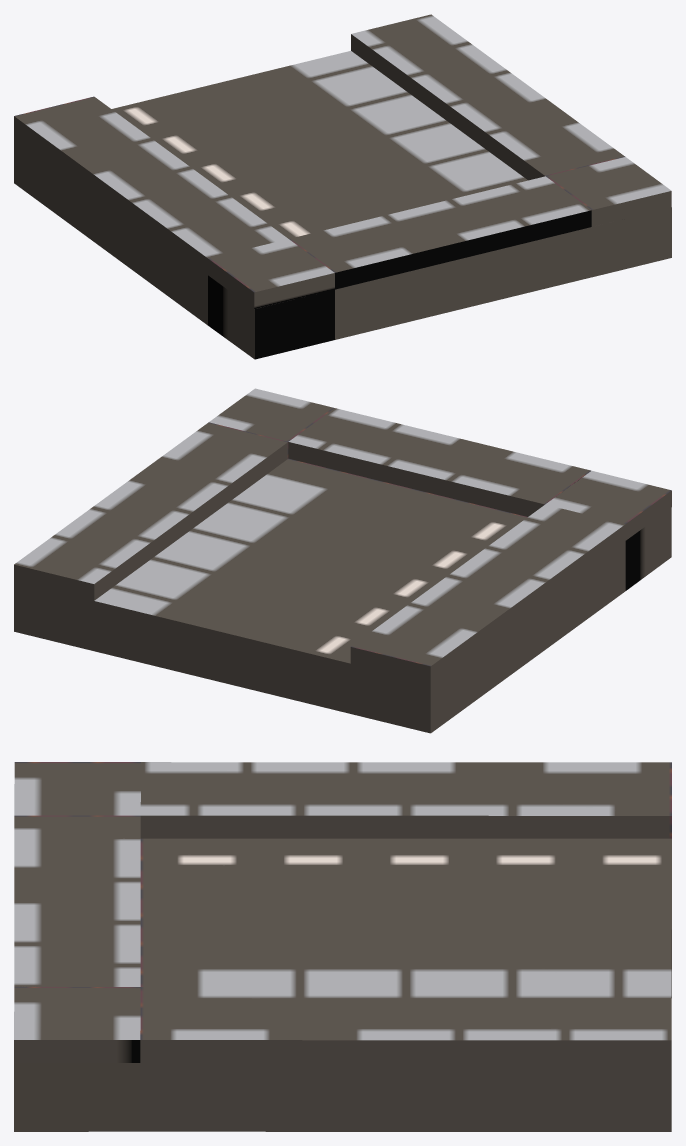
The model's file is tile_edge.obj.
3 renders of one model, top to bottom at view 1: azimuth 30°, elevation 25°; view 2: azimuth 150°, elevation 25°; view 3: azimuth 270°, elevation 25°, orthographic. The views are drawn at different scales.
Visible parts, largest first — view 1: tile_edge; view 2: tile_edge; view 3: tile_edge.
Part boxes in pixels (box(x1,y1,x2,y2)): tile_edge: box(14, 14, 671, 359); tile_edge: box(14, 388, 671, 733); tile_edge: box(14, 762, 671, 1131).
Size of the model in its own units: 6.51 by 1 by 6.5.
1 material, 1 textured.
